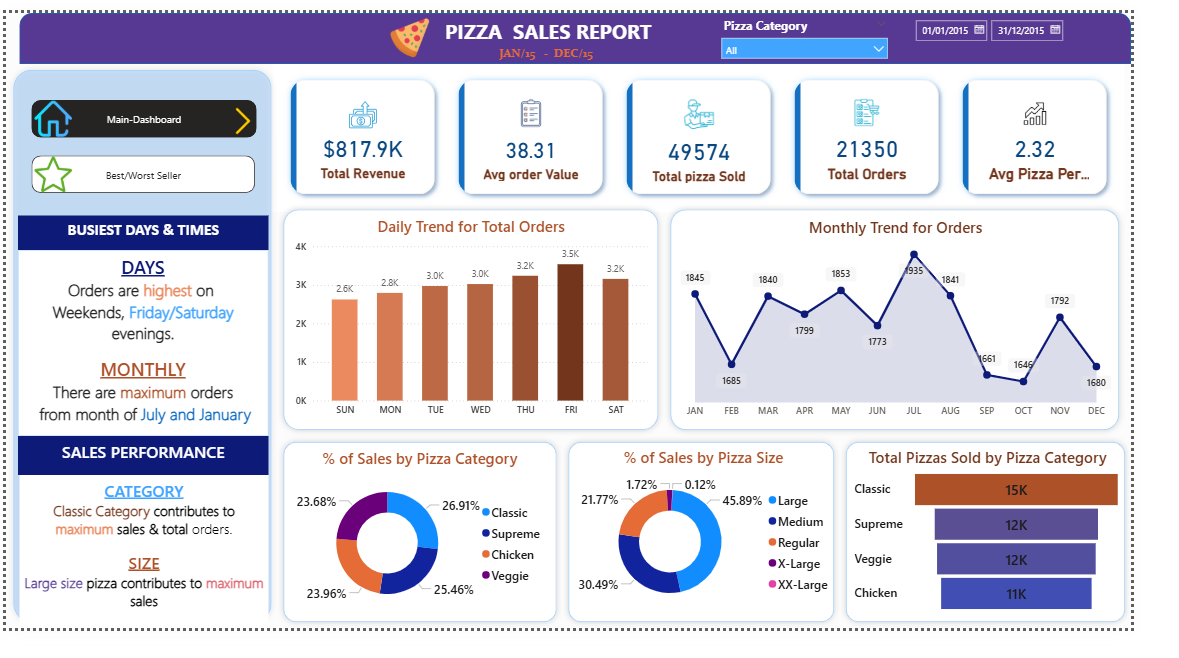

The page's visual inventory and layout, read from the dashboard file:
{"tool":"powerbi","page":{"name":"Main-Dashboard","canvas":[1500,820],"ordinal":0},"visuals":[{"type":"cardVisual","fields":{"Data":["pizza_sales.Total Revenue","pizza_sales.Avg order Value","pizza_sales.Total pizza Sold","pizza_sales.Total Orders","pizza_sales.Avg Pizza Per Order"]},"box":[350,60,1150,210],"z":0},{"type":"shape","box":[18,0,1482,68],"z":1000},{"type":"textbox","box":[552,0,342,50],"z":2000},{"type":"textbox","box":[620,38,200,44],"z":3000},{"type":"image","box":[504,6,68,54],"z":4000},{"type":"shape","box":[362.7,254.9,515.7,309.8],"z":5000},{"type":"columnChart","title":"Daily Trend for Total Orders","fields":{"Category":["pizza_sales.Order Day"],"Y":["pizza_sales.Total Orders"]},"box":[380.4,270.6,480.4,276.5],"z":6000},{"type":"shape","box":[878,254,614,310],"z":7000},{"type":"areaChart","title":"Monthly Trend for Orders","fields":{"Category":["pizza_sales.Order Month"],"Y":["pizza_sales.Total Orders"]},"box":[894,272,584,276],"z":8000},{"type":"shape","box":[362,564,380,256],"z":9000},{"type":"shape","box":[1112,564,388,256],"z":10000},{"type":"shape","box":[742,564,370,256],"z":11000},{"type":"donutChart","title":"% of Sales by Pizza Category","fields":{"Category":["pizza_sales.pizza_category"],"Y":["pizza_sales.Total Revenue"]},"box":[378,580,348,226],"z":12000},{"type":"donutChart","title":"% of Sales by Pizza Size","fields":{"Category":["pizza_sales.pizza_size"],"Y":["pizza_sales.Total Revenue"]},"box":[750,578,360,226],"z":13000},{"type":"shape","box":[2,68,360,752],"z":14000},{"type":"textbox","box":[16,270,334,46],"z":15000},{"type":"funnel","title":"Total Pizzas Sold by Pizza Category","fields":{"Y":["pizza_sales.Total pizza Sold"],"Category":["pizza_sales.pizza_category"]},"box":[1126,578,366,226],"z":16000},{"type":"textbox","box":[16,316,334,248],"z":17000},{"type":"textbox","box":[16,564,334,52],"z":18000},{"type":"textbox","box":[18,616,332,204],"z":19000},{"type":"slicer","fields":{"Values":["pizza_sales.pizza_category"]},"box":[944,0,242,82],"z":20000},{"type":"slicer","fields":{"Values":["pizza_sales.order_date"]},"box":[1200,0,228,60],"z":21000},{"type":"pageNavigator","box":[34,116,300,50],"z":22000},{"type":"pageNavigator","box":[34,190,298,50],"z":23000},{"type":"image","box":[298,122,36,44],"z":24000},{"type":"image","box":[34,116,58,50],"z":25000},{"type":"image","box":[34,190,58,50],"z":26000}]}

Visuals, with their boxes in screenshot pixels (x1, y1, x2, y2), scaled from the page's 1500x820 canvas onto the 1179x658 screenshot:
cardVisual - pizza_sales.Total Revenue x pizza_sales.Avg order Value: bbox(275, 48, 1178, 217)
shape: bbox(14, 0, 1178, 55)
textbox: bbox(434, 0, 703, 40)
textbox: bbox(487, 30, 645, 66)
image: bbox(396, 5, 450, 48)
shape: bbox(285, 205, 690, 453)
"Daily Trend for Total Orders" columnChart: bbox(299, 217, 677, 439)
shape: bbox(690, 204, 1173, 453)
"Monthly Trend for Orders" areaChart: bbox(703, 218, 1162, 440)
shape: bbox(285, 453, 583, 657)
shape: bbox(874, 453, 1178, 657)
shape: bbox(583, 453, 874, 657)
"% of Sales by Pizza Category" donutChart: bbox(297, 465, 571, 647)
"% of Sales by Pizza Size" donutChart: bbox(590, 464, 872, 645)
shape: bbox(2, 55, 285, 657)
textbox: bbox(13, 217, 275, 254)
"Total Pizzas Sold by Pizza Category" funnel: bbox(885, 464, 1173, 645)
textbox: bbox(13, 254, 275, 453)
textbox: bbox(13, 453, 275, 494)
textbox: bbox(14, 494, 275, 657)
slicer - pizza_sales.pizza_category: bbox(742, 0, 932, 66)
slicer - pizza_sales.order_date: bbox(943, 0, 1122, 48)
pageNavigator: bbox(27, 93, 263, 133)
pageNavigator: bbox(27, 152, 261, 193)
image: bbox(234, 98, 263, 133)
image: bbox(27, 93, 72, 133)
image: bbox(27, 152, 72, 193)
